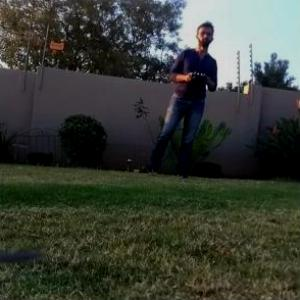follow: (142, 17, 218, 182)
